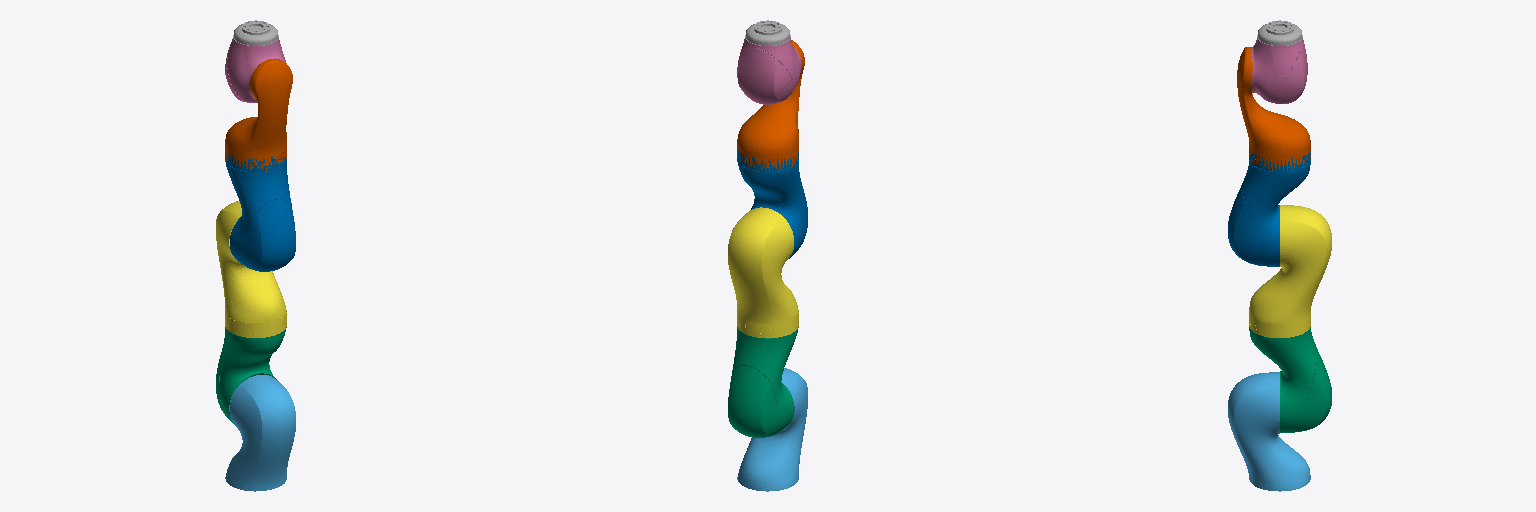
robot.urdf — lbr5_7:
<?xml version="1.0"?>
<robot xmlns:sensor="http://playerstage.sourceforge.net/gazebo/xmlschema/#sensor"
       xmlns:controller="http://playerstage.sourceforge.net/gazebo/xmlschema/#controller"
       xmlns:interface="http://playerstage.sourceforge.net/gazebo/xmlschema/#interface"
       xmlns:xacro="http://playerstage.sourceforge.net/gazebo/xmlschema/#interface"
       name="lbr5_7">

 <link name="segment_0">
    <visual>
      <geometry>
        <mesh filename="package://kuka_description/cad/segment_0_s.dae"/>
      </geometry>
    </visual>
    <collision>
      <geometry>
        <mesh filename="package://kuka_description/cad/segment_0_c.dae"/>
      </geometry>
    </collision>
  </link>

 <link name="segment_1">
    <visual>
      <geometry>
        <mesh filename="package://kuka_description/cad/segment_1_s.dae"/>
      </geometry>
    </visual>
    <collision>
      <geometry>
        <mesh filename="package://kuka_description/cad/segment_1_c.dae"/>
      </geometry>
    </collision>
  </link>

 <link name="segment_2">
    <visual>
      <geometry>
        <mesh filename="package://kuka_description/cad/segment_2_s.dae"/>
      </geometry>
    </visual>
    <collision>
      <geometry>
        <mesh filename="package://kuka_description/cad/segment_2_c.dae"/>
      </geometry>
    </collision>
  </link>

 <link name="segment_3">
    <visual>
      <geometry>
        <mesh filename="package://kuka_description/cad/segment_3_s.dae"/>
      </geometry>
    </visual>
    <collision>
      <geometry>
        <mesh filename="package://kuka_description/cad/segment_3_c.dae"/>
      </geometry>
    </collision>
  </link>

 <link name="segment_4">
    <visual>
      <geometry>
        <mesh filename="package://kuka_description/cad/segment_4_s.dae"/>
      </geometry>
    </visual>
    <collision>
      <geometry>
        <mesh filename="package://kuka_description/cad/segment_4_c.dae"/>
      </geometry>
    </collision>
  </link>

 <link name="segment_5">
    <visual>
      <geometry>
        <mesh filename="package://kuka_description/cad/segment_5_s.dae"/>
      </geometry>
    </visual>
    <collision>
      <geometry>
        <mesh filename="package://kuka_description/cad/segment_5_c.dae"/>
      </geometry>
    </collision>
  </link>

  <link name="segment_6">
    <visual>
      <geometry>
        <mesh filename="package://kuka_description/cad/segment_6_s.dae"/>
      </geometry>
    </visual>
    <collision>
      <geometry>
        <mesh filename="package://kuka_description/cad/segment_6_c.dae"/>
      </geometry>
    </collision>
  </link>

  <link name="segment_7">
    <visual>
      <geometry>
        <mesh filename="package://kuka_description/cad/segment_7_s.dae"/>
      </geometry>
    </visual>
    <collision>
      <geometry>
        <mesh filename="package://kuka_description/cad/segment_7_c.dae"/>
      </geometry>
    </collision>
  </link>

 <link name="end_effector_link">
  </link>


  <joint name="joint_0" type="continuous">
    <parent link="segment_0"/>
    <child link="segment_1"/>
    <axis xyz="0 0 1"/>
    <origin xyz="0 0 1.57"/>
  </joint>

  <joint name="joint_1" type="continuous">
    <parent link="segment_1"/>
    <child link="segment_2"/>
    <axis xyz="0 1 0"/>
    <origin xyz="0 0 1.85"/>
  </joint>

  <joint name="joint_2" type="continuous">
    <parent link="segment_2"/>
    <child link="segment_3"/>
    <axis xyz="0 0 1"/>
    <origin xyz="0 0 1.85"/>
  </joint>

  <joint name="joint_3" type="continuous">
    <parent link="segment_3"/>
    <child link="segment_4"/>
    <axis xyz="0 1 0"/>
    <origin xyz="0 0 2.15"/>
  </joint>

  <joint name="joint_4" type="continuous">
    <parent link="segment_4"/>
    <child link="segment_5"/>
    <axis xyz="0 0 1"/>
    <origin xyz="0 0 1.85"/>
  </joint>

  <joint name="joint_5" type="continuous">
    <parent link="segment_5"/>
    <child link="segment_6"/>
    <axis xyz="0 1 0"/>
    <origin xyz="0 0 2.15"/>
  </joint>

  <joint name="joint_6" type="continuous">
    <parent link="segment_6"/>
    <child link="segment_7"/>
    <axis xyz="0 0 1"/>
    <origin xyz="0 0 0.80"/>
  </joint>

  <joint name="joint_ee" type="fixed">
    <parent link="segment_7"/>
    <child link="end_effector_link"/>
    <axis xyz="0 0 1"/>
    <origin xyz="0 0 0.25"/>
  </joint>



</robot>

--- What the picture shows (computed from the rendered views, not written in the file) ---
Views: 3 orthographic renders of the robot side by side, from view 1: azimuth 30°, elevation 25°; view 2: azimuth 150°, elevation 25°; view 3: azimuth 270°, elevation 25°.
Model lbr5_7 with 9 links and 8 joints (7 continuous, 1 fixed), rooted at segment_0, posed all joints at 0.
Links seen in each view (by area): view 1: segment_1, segment_4, segment_3, segment_5, segment_2, segment_6, segment_7; view 2: segment_3, segment_2, segment_1, segment_5, segment_6, segment_4, segment_7; view 3: segment_3, segment_1, segment_4, segment_2, segment_5, segment_6, segment_7.
Boxes of the visible links, x1=… form: segment_1: x1=225, y1=375, x2=295, y2=491; segment_4: x1=225, y1=152, x2=295, y2=271; segment_3: x1=216, y1=201, x2=286, y2=337; segment_5: x1=225, y1=58, x2=292, y2=170; segment_2: x1=216, y1=327, x2=286, y2=423; segment_6: x1=225, y1=38, x2=286, y2=102; segment_7: x1=233, y1=20, x2=278, y2=45; segment_3: x1=728, y1=207, x2=798, y2=337; segment_2: x1=728, y1=327, x2=798, y2=437; segment_1: x1=737, y1=368, x2=807, y2=491; segment_5: x1=737, y1=40, x2=804, y2=171; segment_6: x1=737, y1=38, x2=801, y2=104; segment_4: x1=737, y1=149, x2=807, y2=258; segment_7: x1=745, y1=20, x2=790, y2=45; segment_3: x1=1249, y1=205, x2=1331, y2=337; segment_1: x1=1228, y1=372, x2=1310, y2=491; segment_4: x1=1228, y1=147, x2=1310, y2=266; segment_2: x1=1249, y1=327, x2=1331, y2=432; segment_5: x1=1237, y1=47, x2=1310, y2=171; segment_6: x1=1252, y1=38, x2=1307, y2=103; segment_7: x1=1257, y1=20, x2=1302, y2=45.
Bounding box of the posed robot: 1.35 × 2.29 × 10.99 m (x, y, z).
Meshes: 8 distinct files referenced, 7 mesh visuals loaded (7 Collada DAE); not drawn: 1 (reference not matched to a file when rendering).